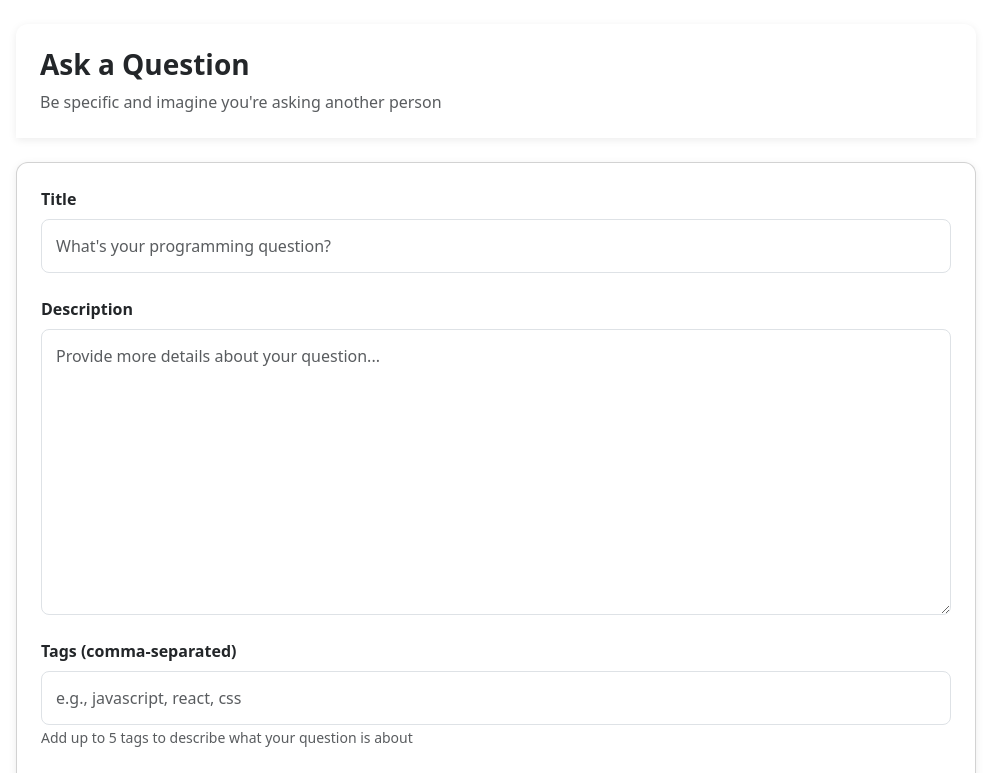
Test: Question Quality Improver › sends all three fields in one call and shows each suggestion under its field
The width and height of the screenshot is (993, 773).
Type "react not working" into the field labelled "Title" at [496, 246], box [41, 219, 951, 273]
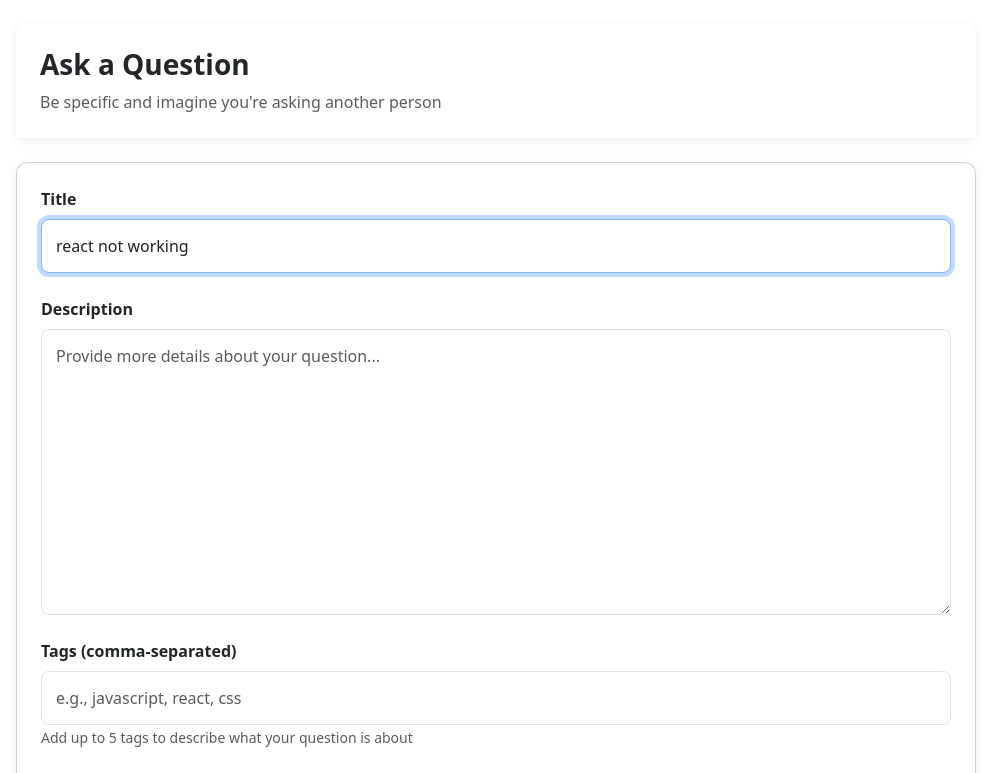
Type "useEffect runs twice" into the text box labelled "Description" at [496, 472], box [41, 329, 951, 614]
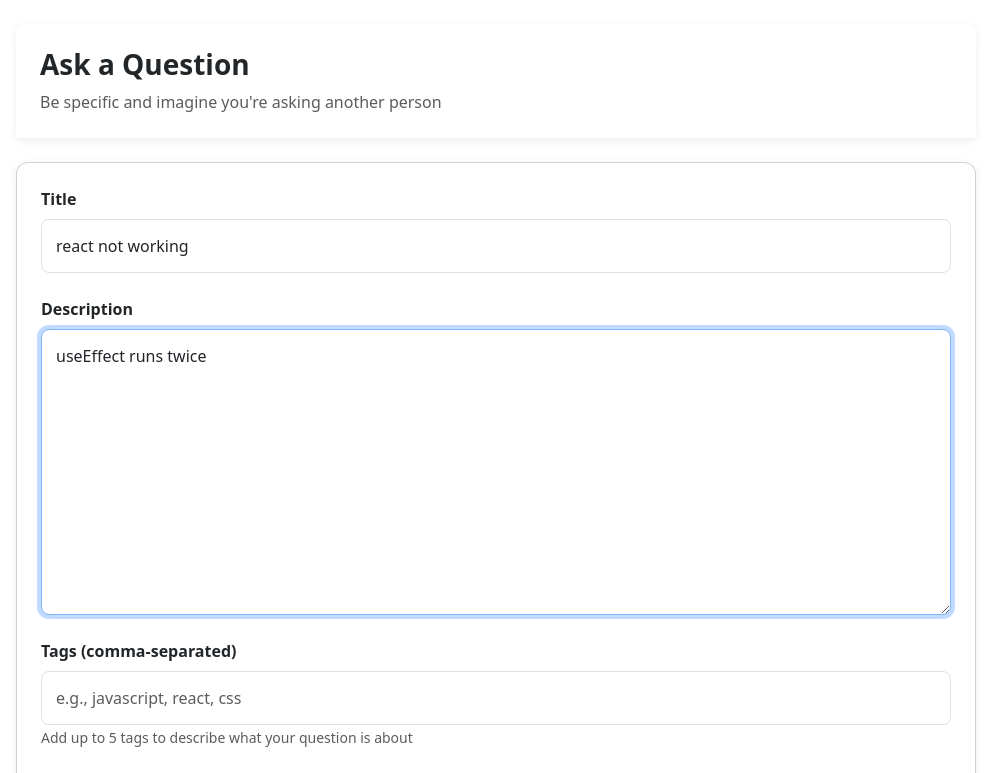
Type "react" into the field labelled "Tags (comma-separated)" at [496, 698], box [41, 670, 951, 724]
(page scrolled)
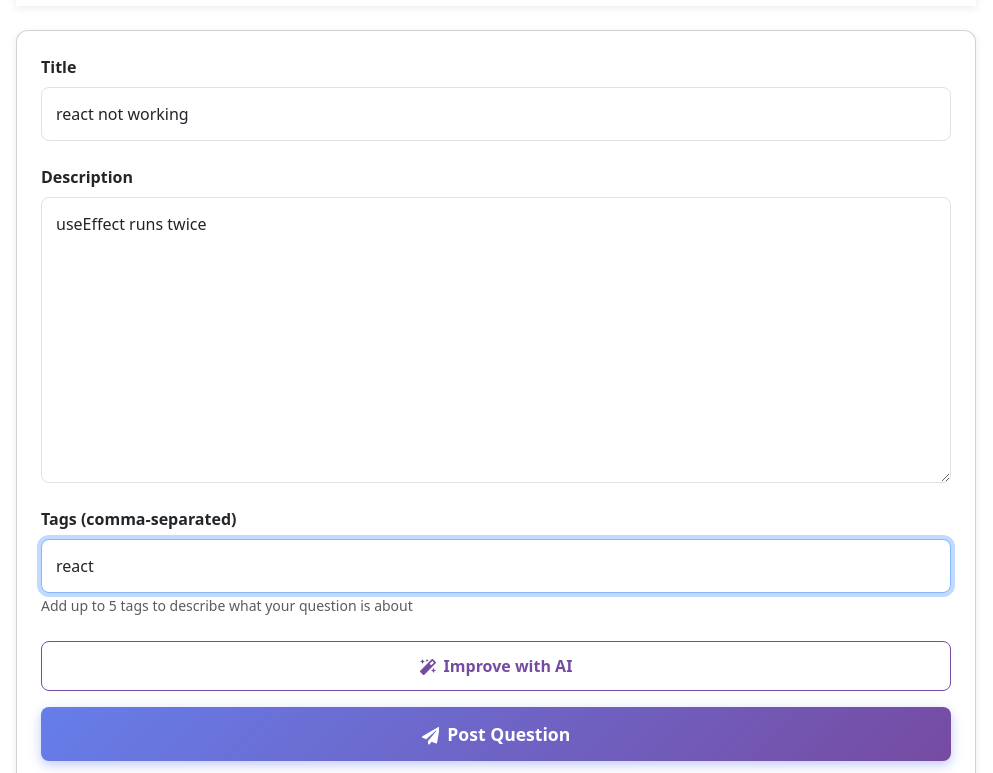
Click the button "Improve with AI" at [496, 666], box [41, 640, 951, 690]
(page scrolled)
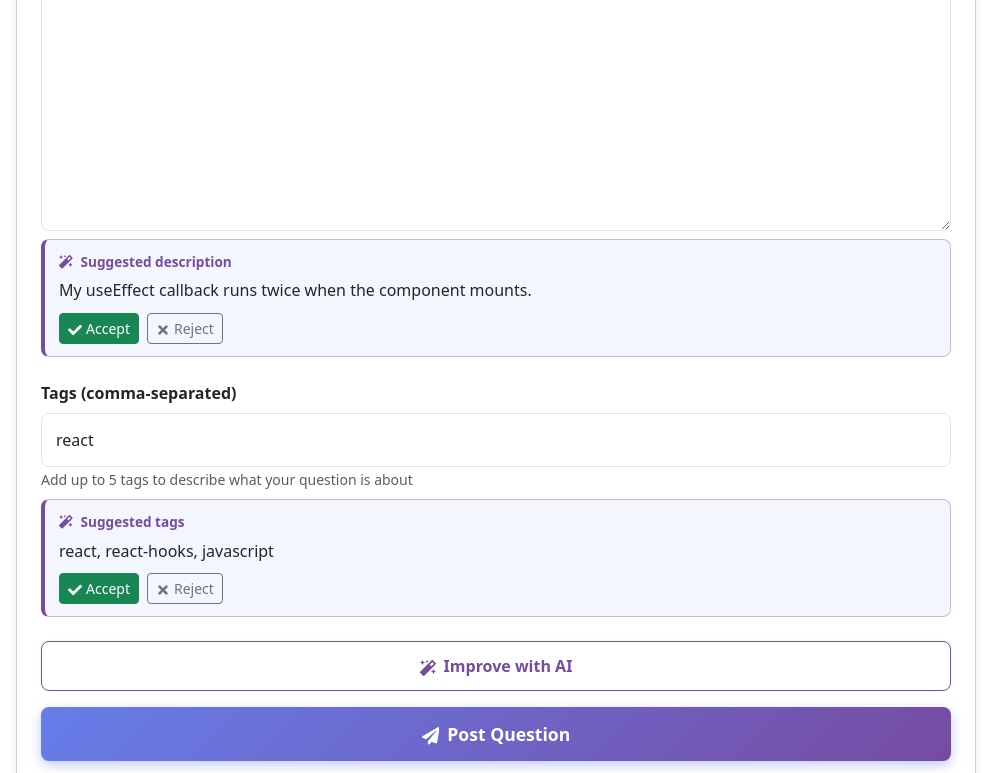
Expected: the element with test id "ai-suggestion-description" shows "My useEffect callback runs twice when the component mounts.", [59, 280, 532, 302]
Expected: the element with test id "ai-suggestion-tags" shows "react, react-hooks, javascript", [59, 540, 274, 562]
